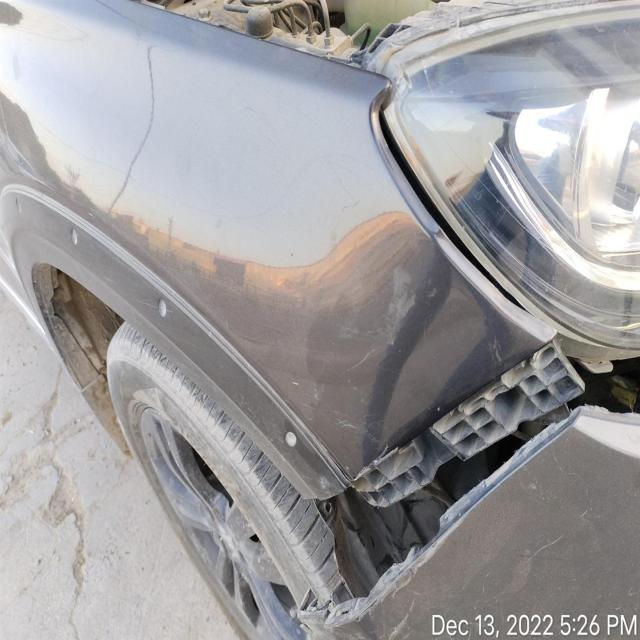damage: (321, 326, 577, 625), (295, 551, 418, 640), (360, 232, 438, 366)
